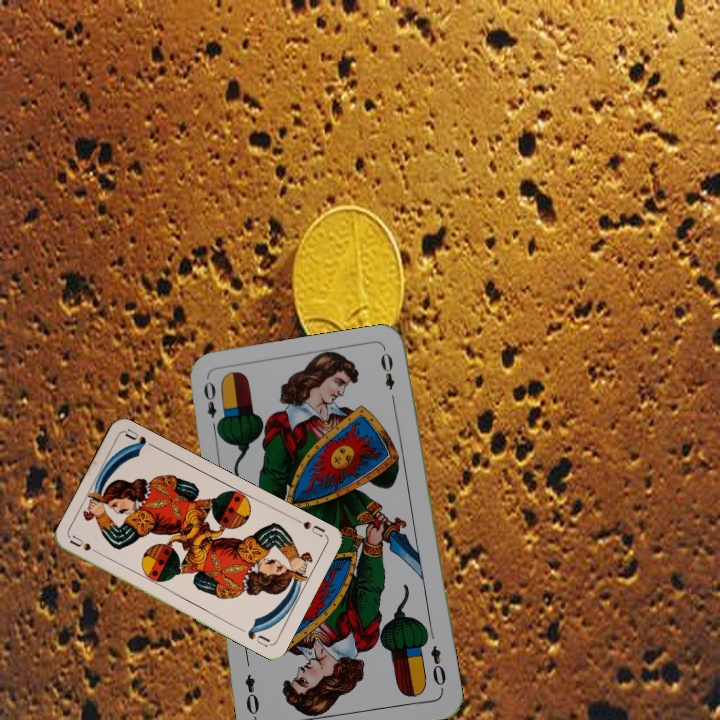EO: (199, 378, 224, 435), (427, 641, 449, 693)
SU: (66, 532, 105, 559), (290, 514, 328, 540)
